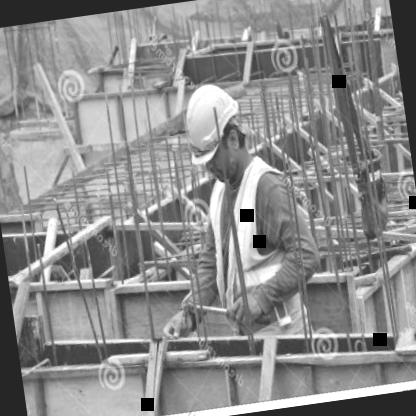helmet: (176, 72, 255, 185)
